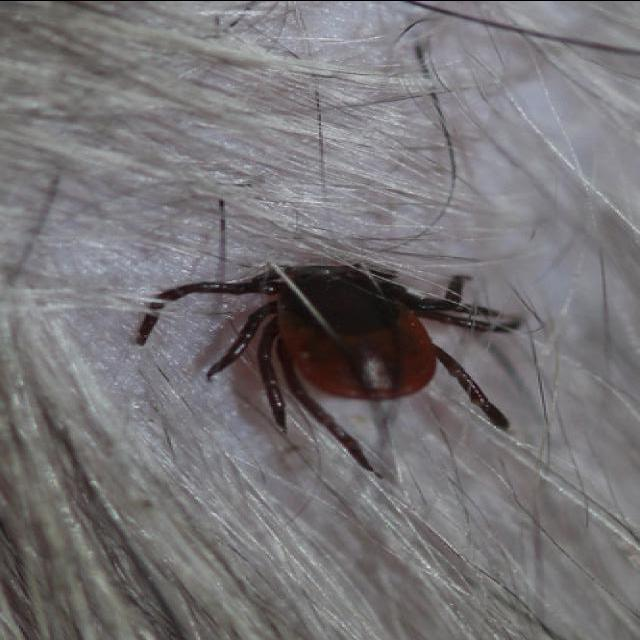Ixodes Ricinus-F: (135, 261, 515, 470)
